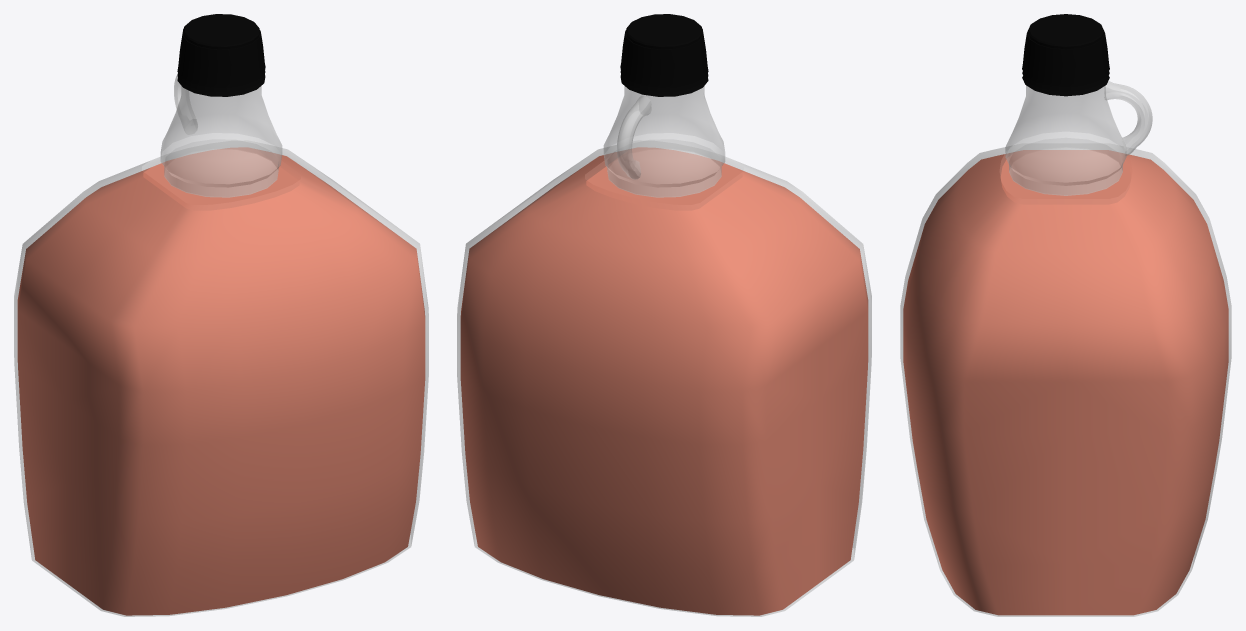
File: SyrupBottle.fbx
The picture shows the model from 3 angles, left to right: view 1: azimuth 30°, elevation 25°; view 2: azimuth 150°, elevation 25°; view 3: azimuth 270°, elevation 25°; orthographic projection.
Visible parts, largest first — view 1: Glass, Syrup, Glass.001, Cap, GlassHandle; view 2: Glass, Syrup, Glass.001, Cap, GlassHandle; view 3: Glass, Syrup, Glass.001, Cap, GlassHandle.
Boxes of the visible parts, <box> form: Glass: <box>14,140,428,616</box>; Syrup: <box>17,147,425,615</box>; Glass.001: <box>160,86,282,197</box>; Cap: <box>177,14,265,96</box>; GlassHandle: <box>174,73,197,134</box>; Glass: <box>457,140,871,616</box>; Syrup: <box>460,147,868,615</box>; Glass.001: <box>603,86,725,197</box>; Cap: <box>620,14,708,96</box>; GlassHandle: <box>617,96,651,179</box>; Glass: <box>900,143,1231,616</box>; Syrup: <box>903,150,1228,615</box>; Glass.001: <box>1005,85,1126,195</box>; Cap: <box>1022,14,1109,96</box>; GlassHandle: <box>1104,81,1152,155</box>.
Bounding box in the file's own units: 3994 × 6377 × 3733.
